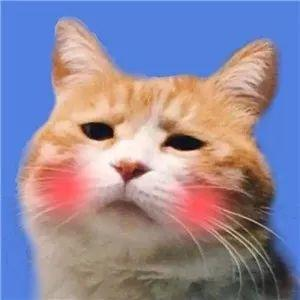cat: (30, 14, 274, 268)
